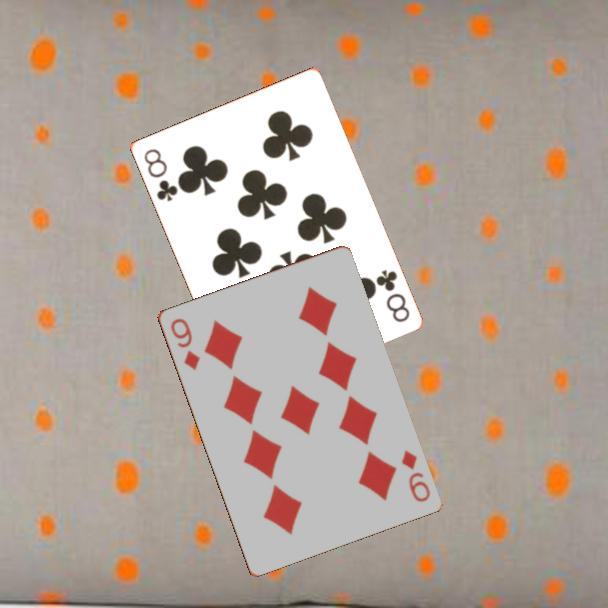c08: (140, 145, 180, 204), (372, 266, 412, 325)
d09: (166, 314, 203, 372), (398, 446, 433, 505)
